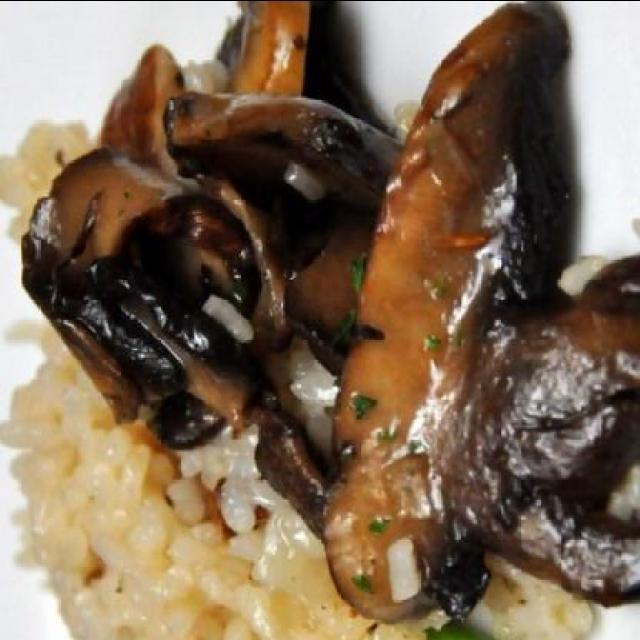Risotto: (13, 439, 305, 639)
